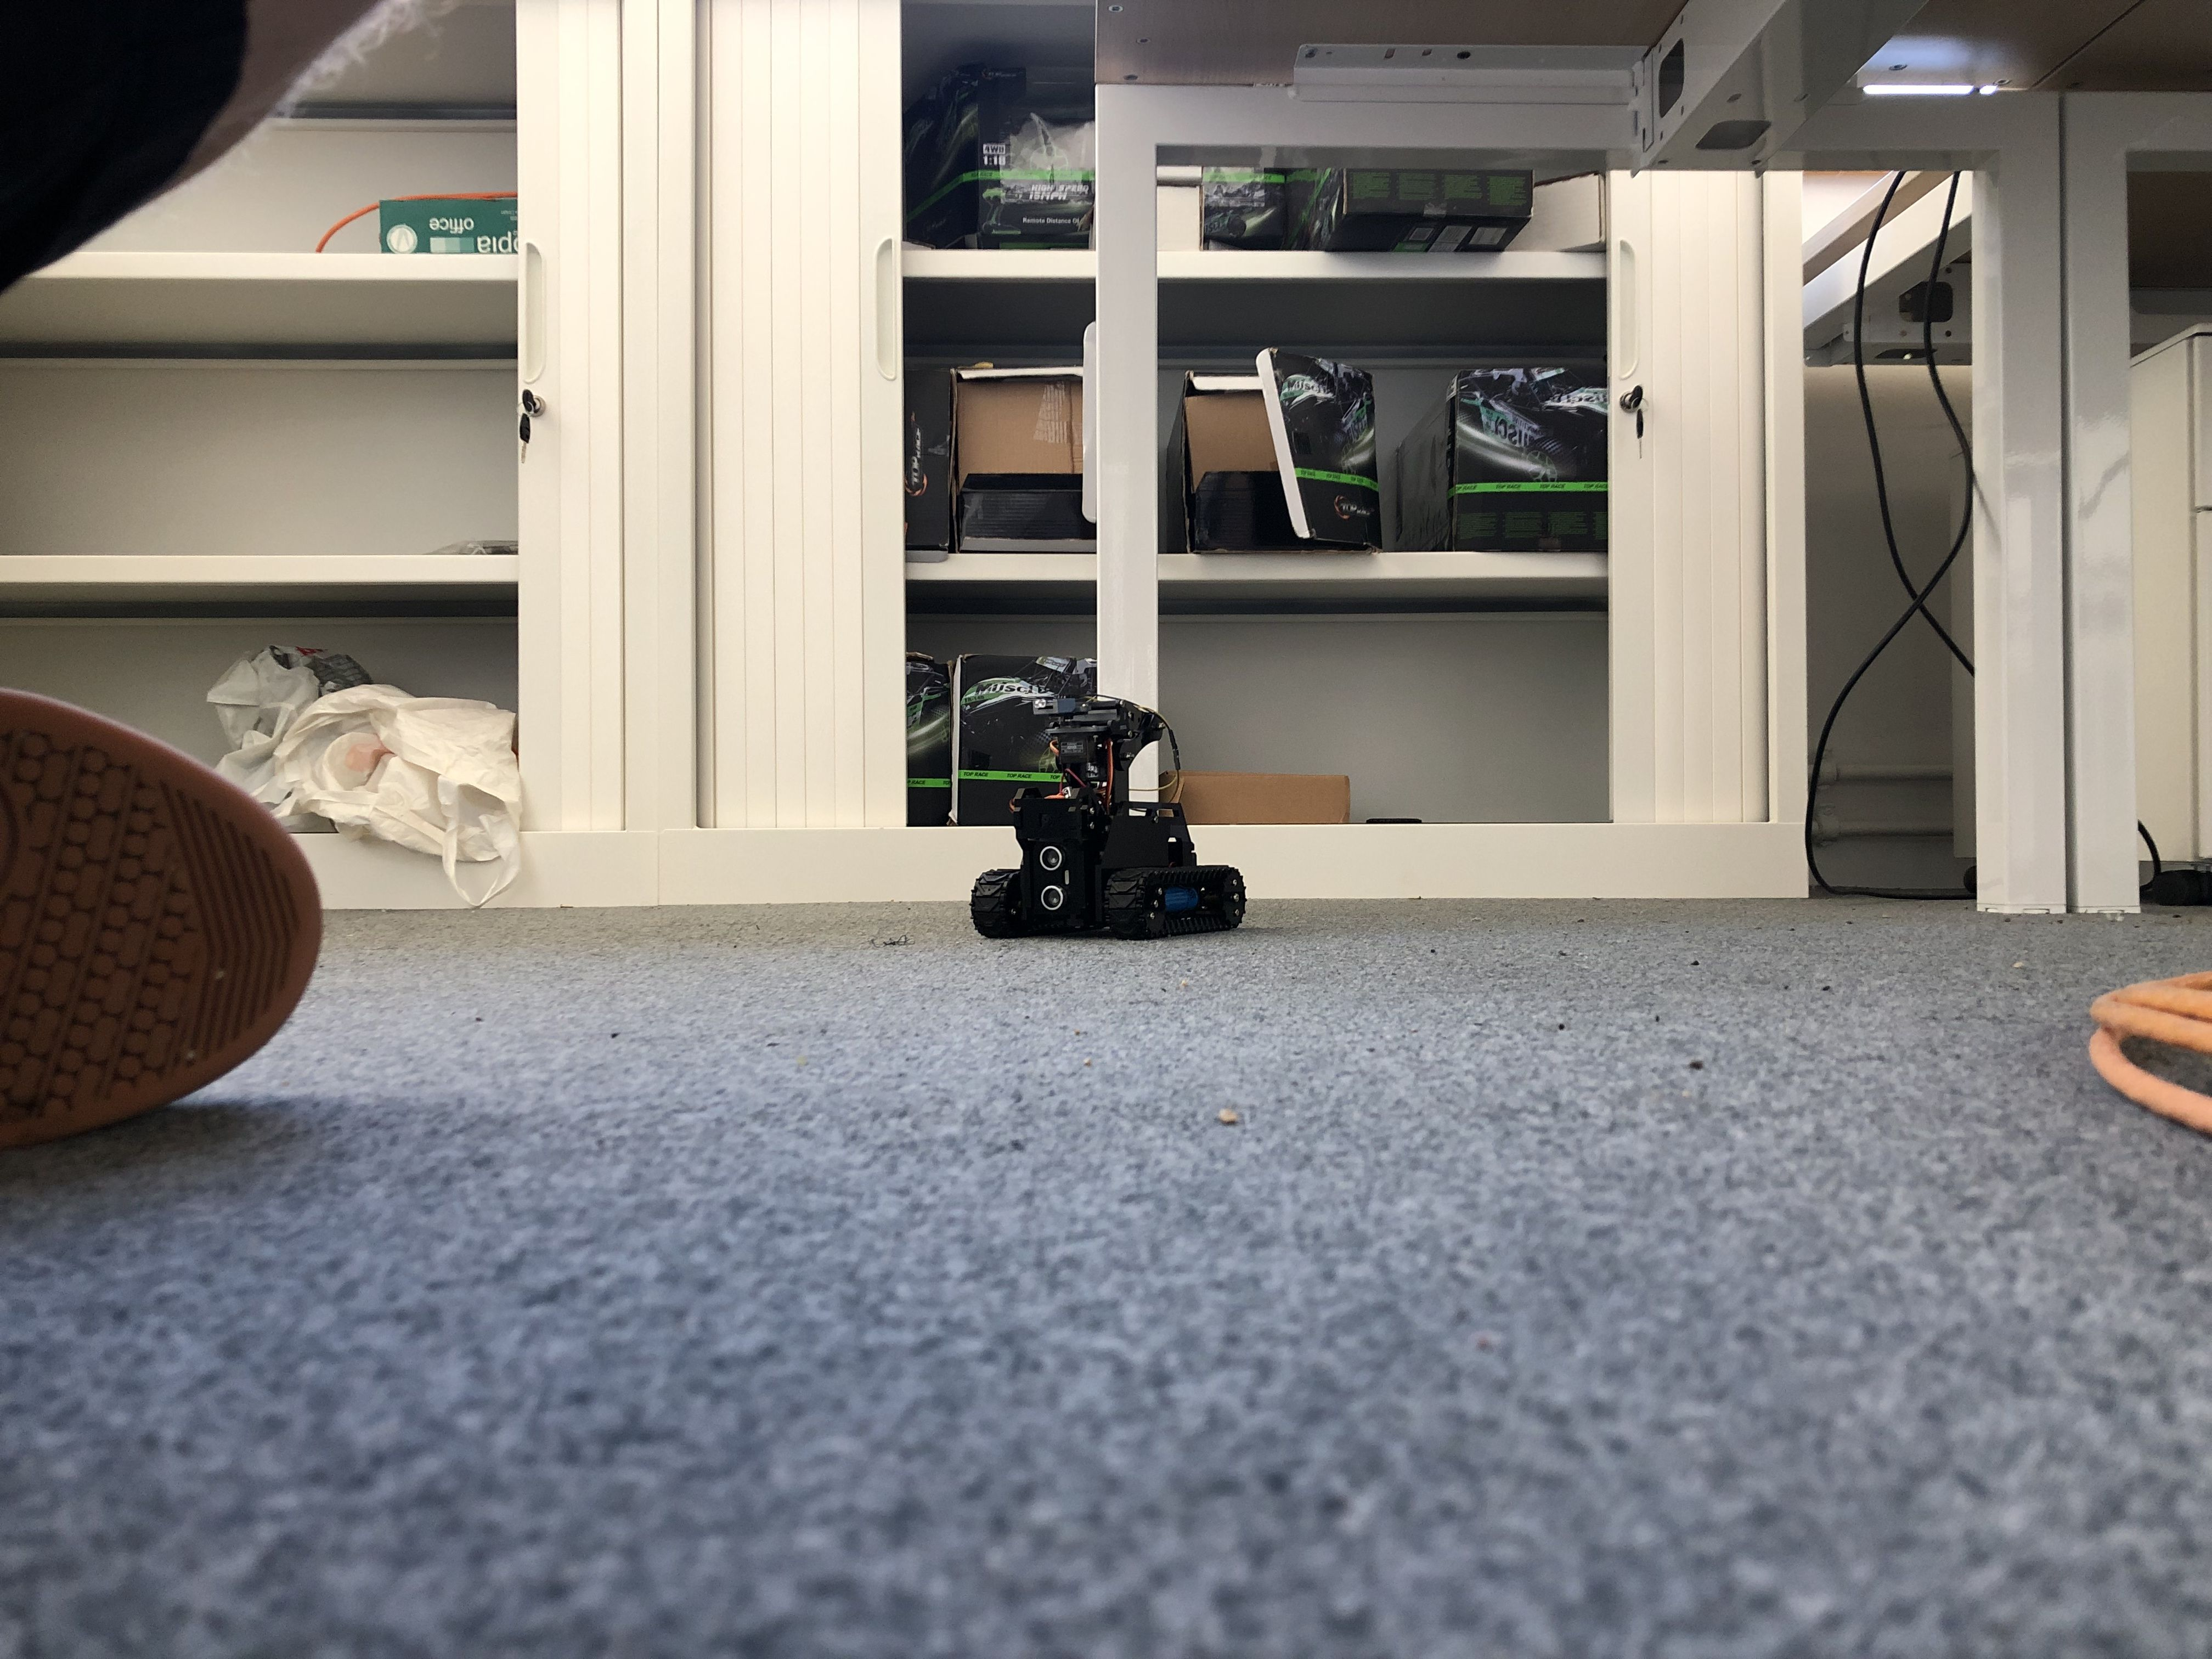rasptank: (963, 688, 1254, 943)
